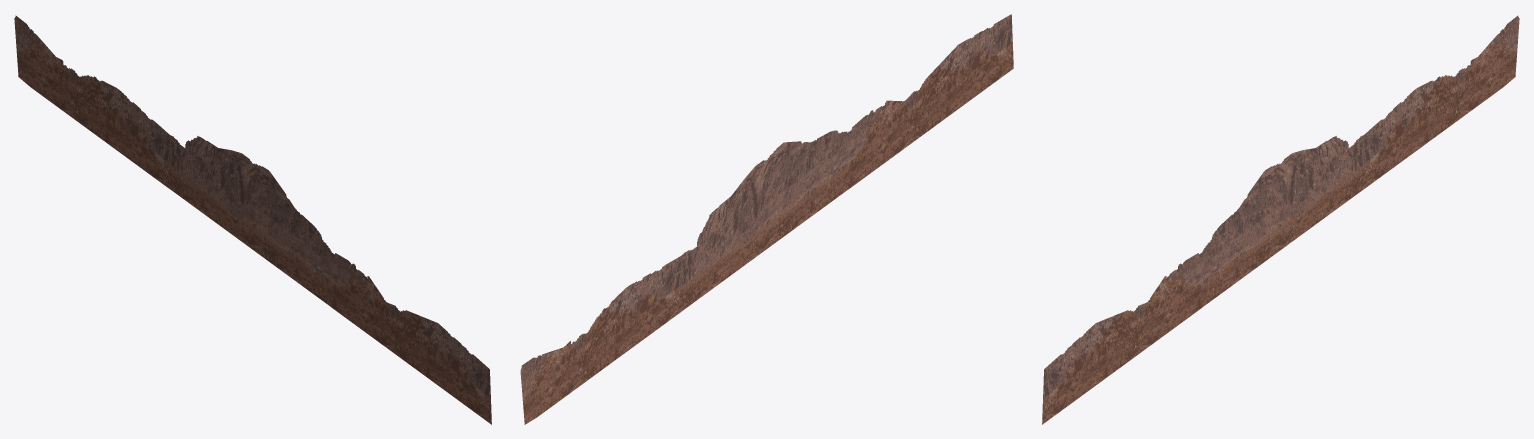
The model's file is BgMD_Dis_Cliff_A.FBX.
3 renders of one model, left to right at view 1: azimuth 30°, elevation 25°; view 2: azimuth 150°, elevation 25°; view 3: azimuth 330°, elevation 25°, orthographic. The views are drawn at different scales.
Visible parts, largest first — view 1: BgMD_Dis_Cliff_A; view 2: BgMD_Dis_Cliff_A; view 3: BgMD_Dis_Cliff_A.
Part boxes in pixels (x1,y1,x2,y2): BgMD_Dis_Cliff_A: (14,15,491,424); BgMD_Dis_Cliff_A: (520,14,1013,424); BgMD_Dis_Cliff_A: (1042,15,1519,424).
Bounding box in the file's own units: 3.12e-08 × 1006 × 9529.
